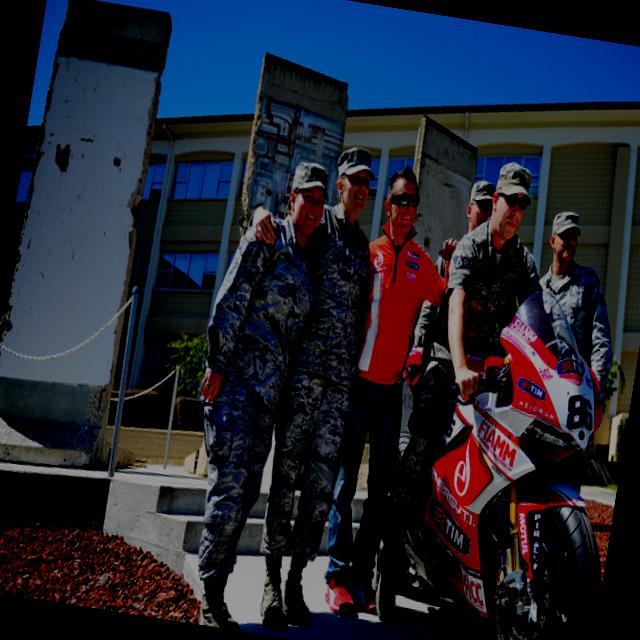Vehicle: (394, 301, 640, 640)
